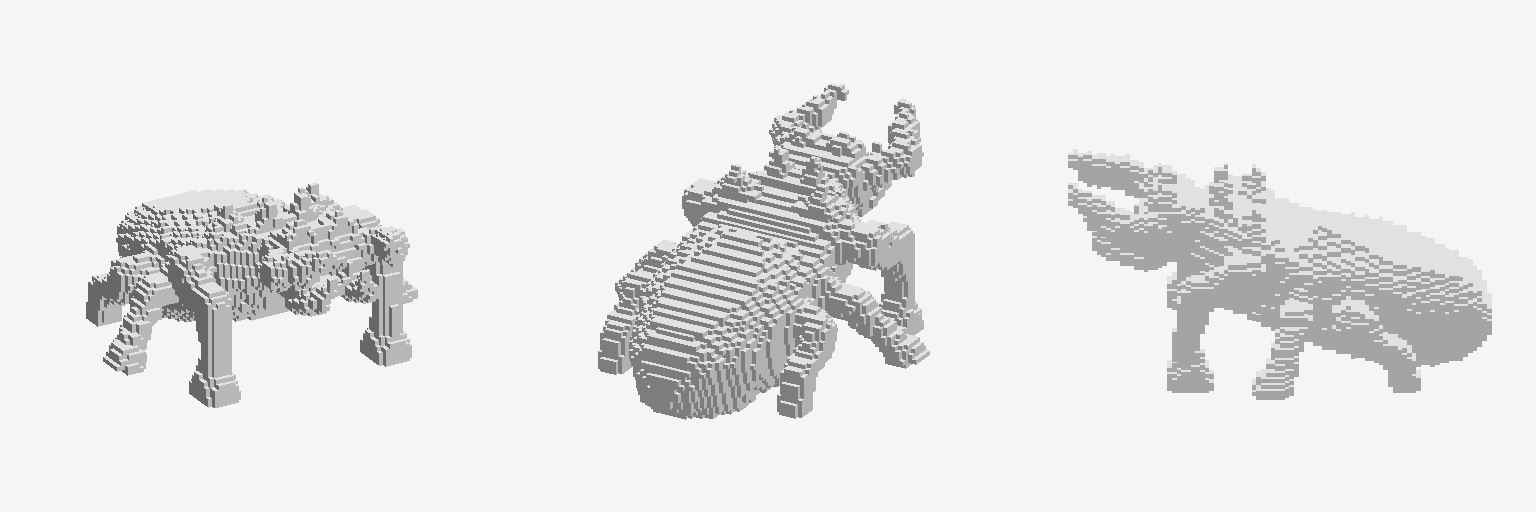
Rendered from beetle_spawn_blue_v1-4.obj.
The picture shows the model from 3 angles: view 1: azimuth 30°, elevation 25°; view 2: azimuth 150°, elevation 25°; view 3: azimuth 270°, elevation 25°; orthographic projection.
Parts seen in each view (by area): view 1: object 1; view 2: object 1; view 3: object 1.
Part boxes in pixels (left/top/right/bottom): object 1: left=86, top=182, right=417, bottom=407; object 1: left=598, top=83, right=929, bottom=419; object 1: left=1068, top=149, right=1491, bottom=399.
Bounding box in the file's own units: 7.4 × 4.1 × 9.